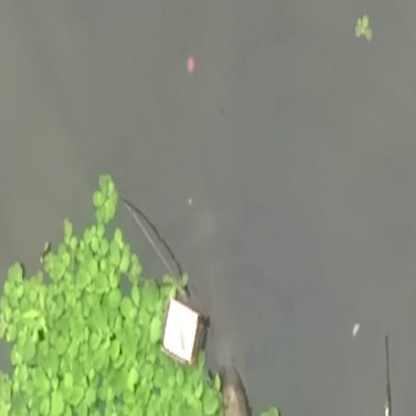milk-box: (163, 296, 211, 368)
